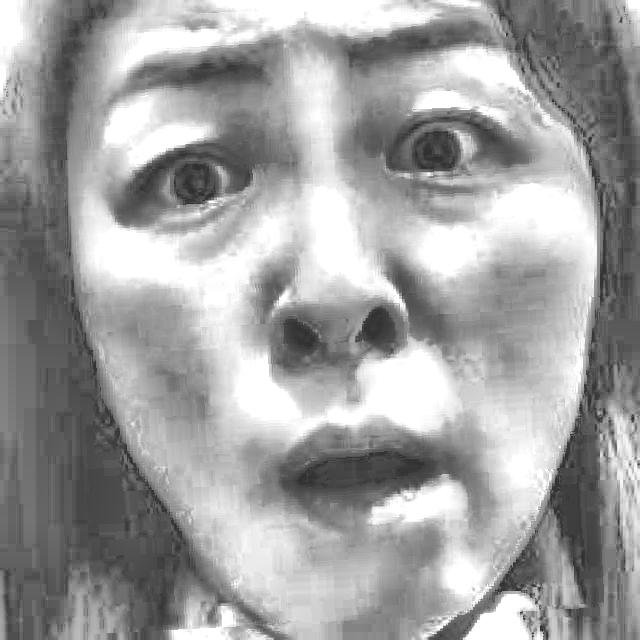fear: (68, 1, 597, 627)
